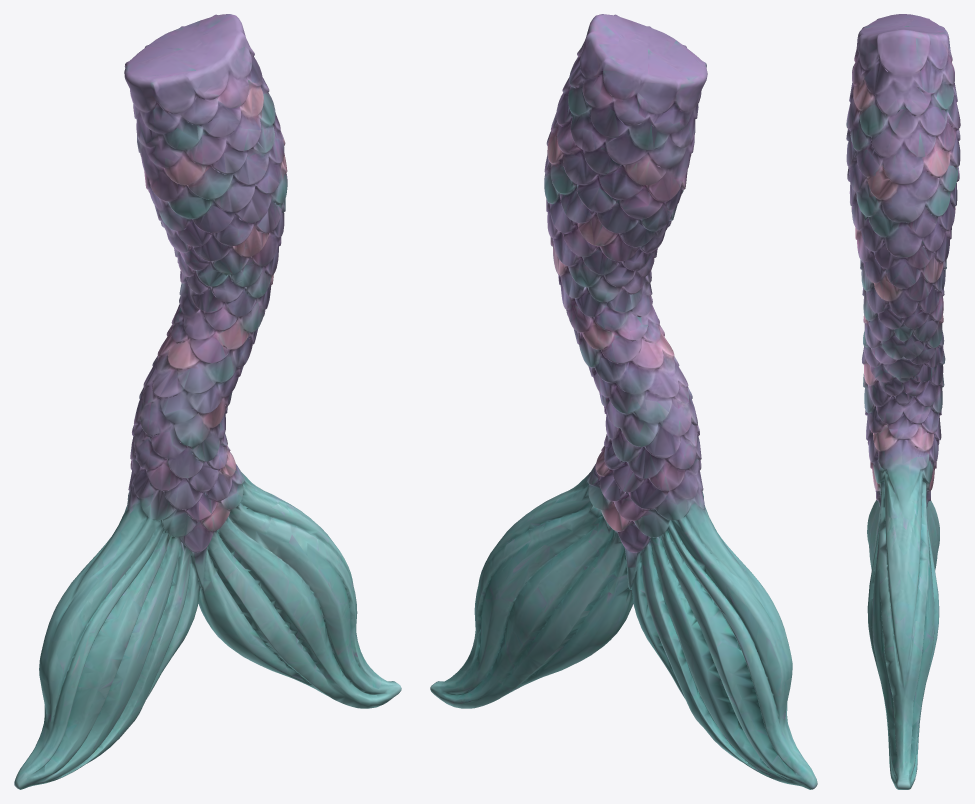
The picture shows the model from 3 angles, left to right: view 1: azimuth 30°, elevation 25°; view 2: azimuth 150°, elevation 25°; view 3: azimuth 270°, elevation 25°; orthographic projection. The views are drawn at different scales.
Size of the model in its own units: 1.06 by 1.9 by 0.2853.
Materials: 1 (1 with a texture image).
